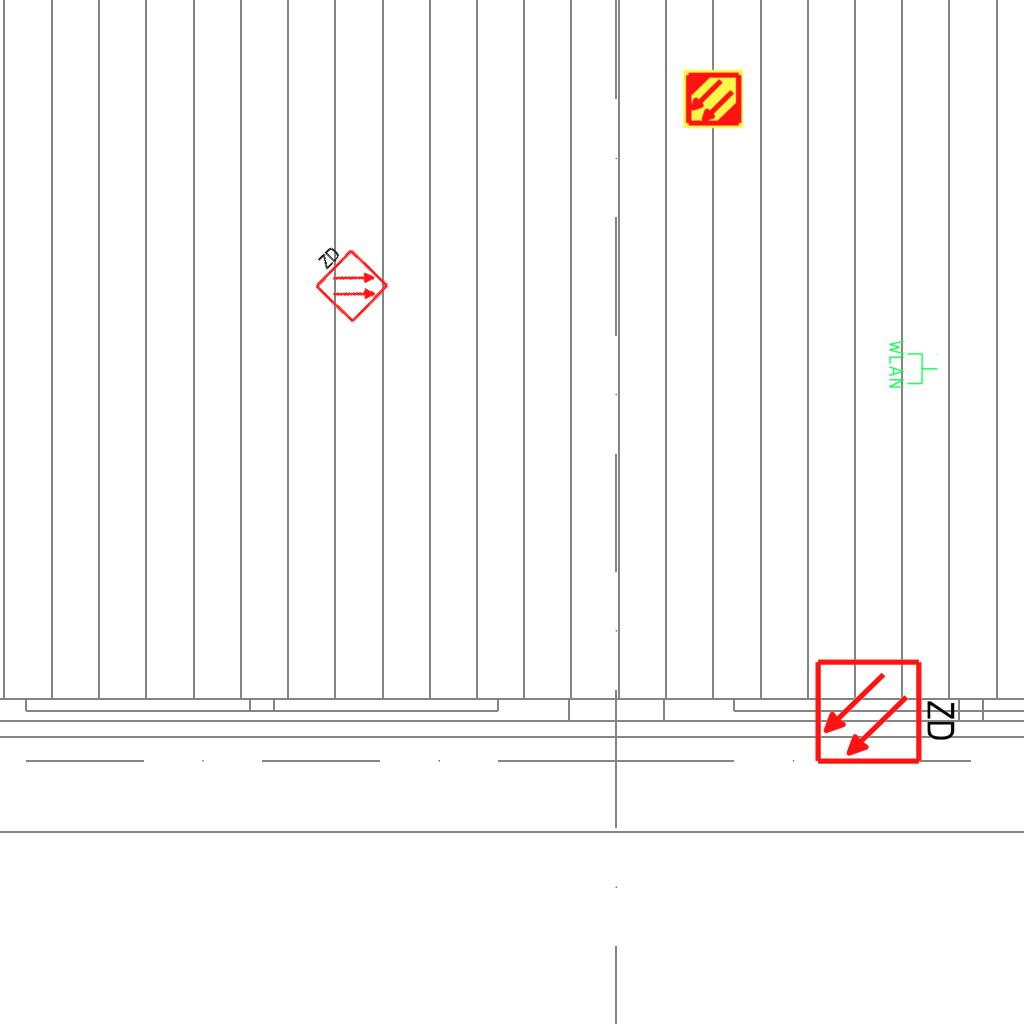ASR_Ansaugrauchmelder: (682, 68, 744, 130)
WLAN: (887, 338, 939, 390)
ZD_Melder_in_Zwischendecke_mit_Revisionsoeffnung_mind_40_x_40_cm: (813, 653, 962, 767), (298, 233, 391, 327)
